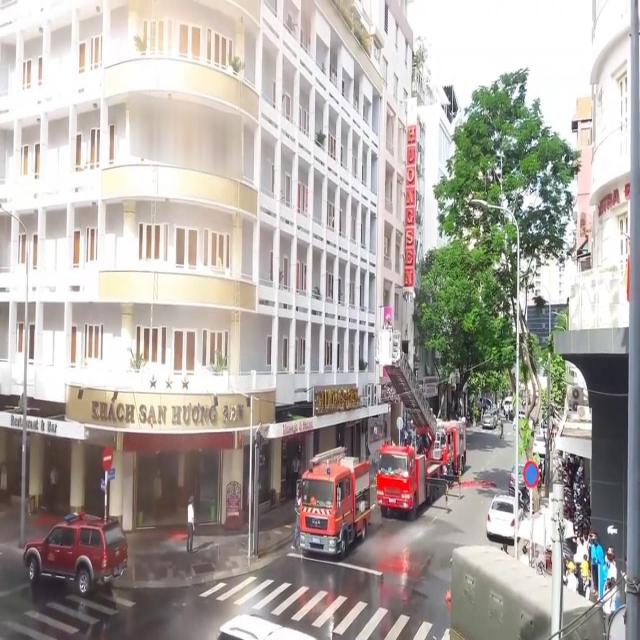car: (24, 516, 128, 596), (485, 492, 520, 542)
truck: (452, 544, 610, 639), (297, 450, 373, 556), (375, 442, 442, 516), (428, 414, 467, 480)
